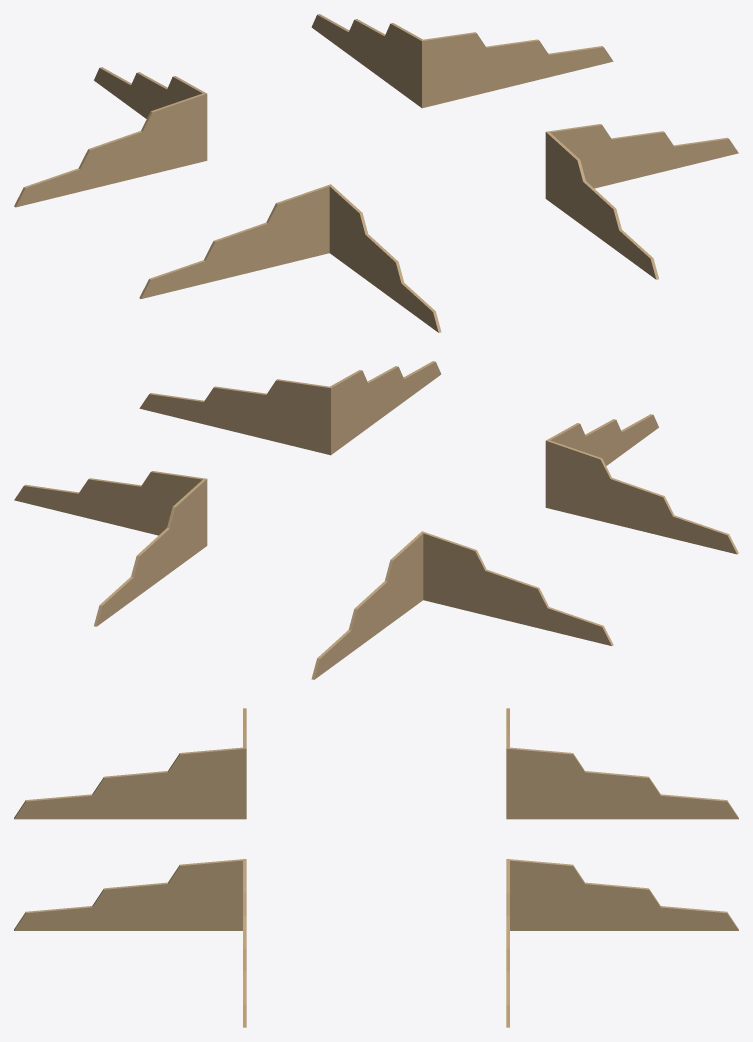
The model's file is Fence.fbx.
3 views of the same model, one above another, from view 1: azimuth 30°, elevation 25°; view 2: azimuth 150°, elevation 25°; view 3: azimuth 270°, elevation 25° (orthographic). The views are drawn at different scales.
Visible parts, largest first — view 1: Fence; view 2: Fence; view 3: Fence.
Part boxes in pixels (x1,y1,x2,y2): Fence: (14,14,738,332); Fence: (14,361,738,679); Fence: (14,708,738,1027).
Size of the model in its own units: 4176 by 448 by 4172.
1 material, 1 textured.
